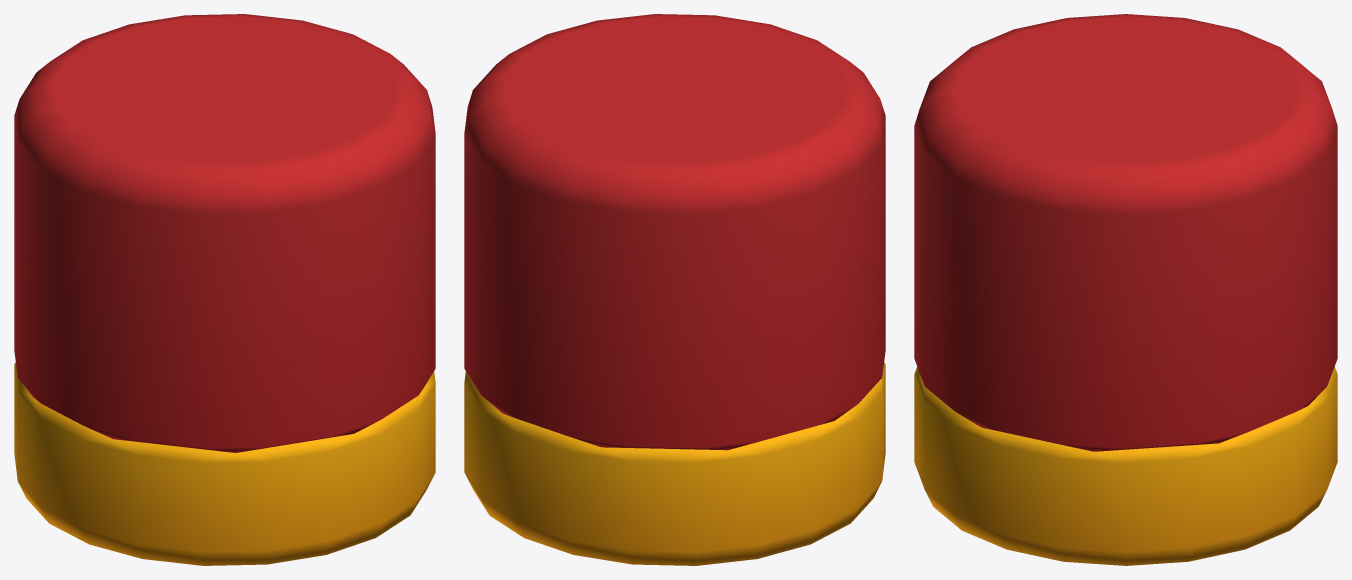
The model's file is Pouf_03.glb.
3 views of the same model, side by side, from view 1: azimuth 30°, elevation 25°; view 2: azimuth 150°, elevation 25°; view 3: azimuth 270°, elevation 25° (orthographic).
Visible parts, largest first — view 1: Pouf_03; view 2: Pouf_03; view 3: Pouf_03.
Boxes of the visible parts, <box> form: Pouf_03: <box>14,14,435,565</box>; Pouf_03: <box>464,14,885,565</box>; Pouf_03: <box>914,14,1337,565</box>.
Bounding box in the file's own units: 0.443 × 0.4605 × 0.443.
1 material, 1 textured.
